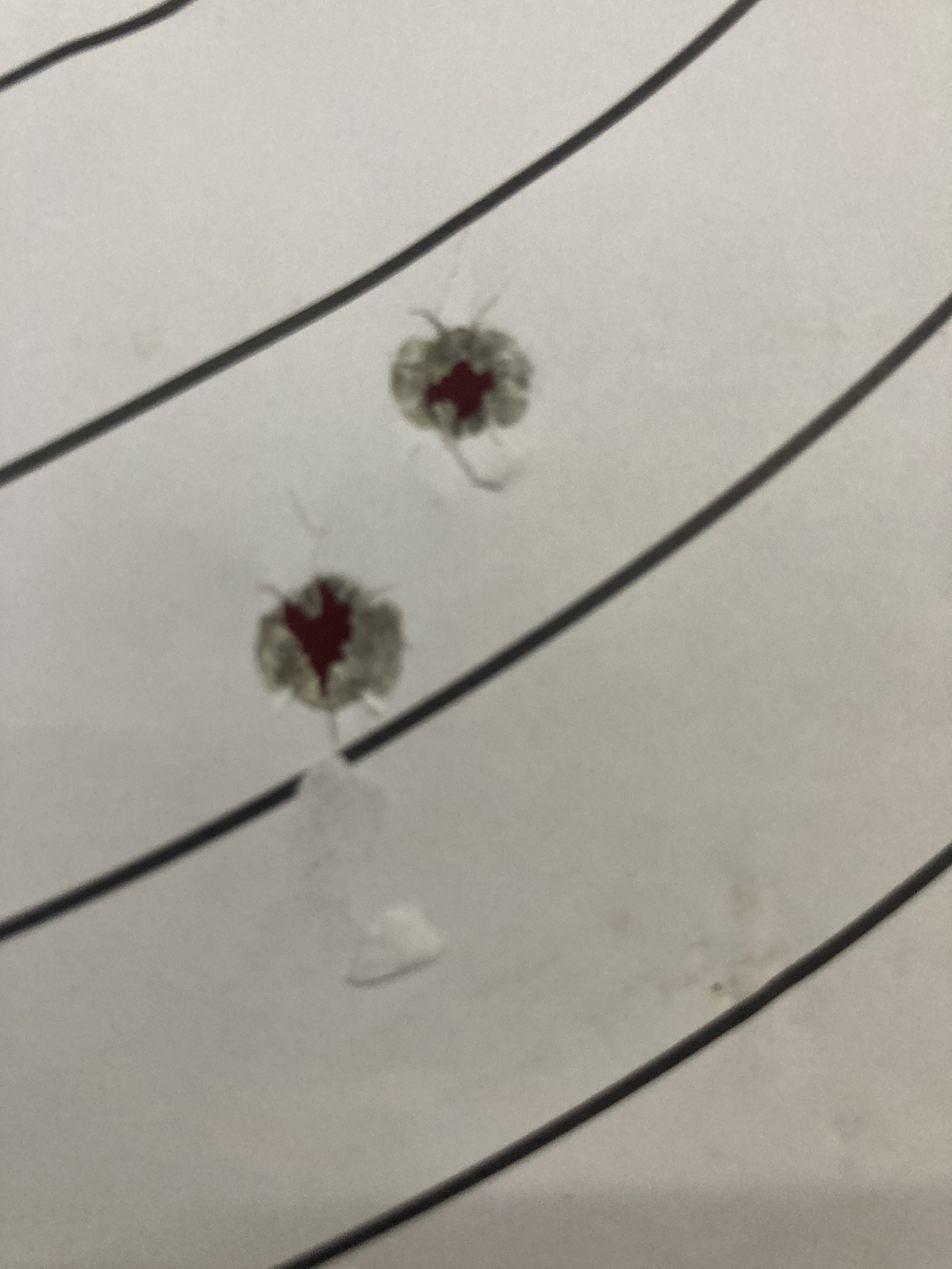hole: (239, 529, 501, 752), (331, 274, 586, 456)
